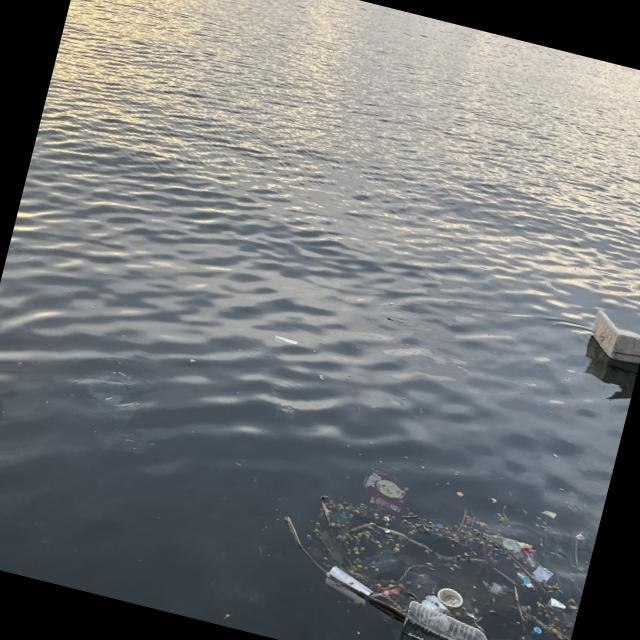foam: (587, 309, 640, 365)
plastic bottle: (399, 600, 502, 640)
